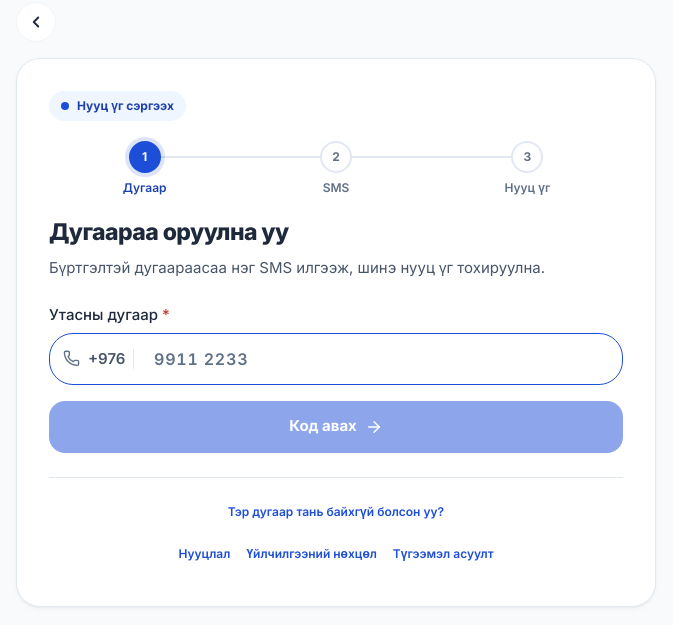
Test: forgot password — by phone › says no account was found only after the SMS proved the number
In the field labelled "Утасны дугаар *": (336, 358) [49,332,623,384], type "99112233"
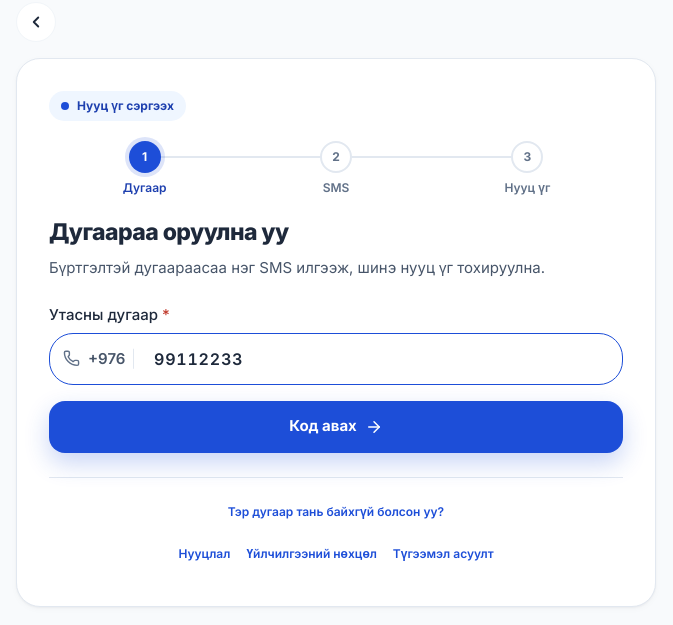
Click the button "Код авах": click(336, 426) [49,400,623,452]
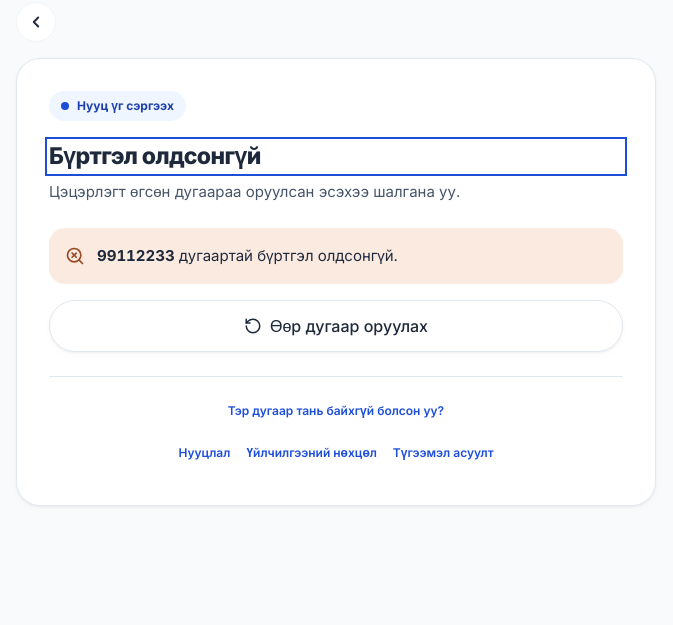
Expected: the field labelled "Шинэ нууц үг" is not shown
Result: the text "99112233 дугаартай бүртгэл олдсонгүй." is shown at [97,244,398,268]
